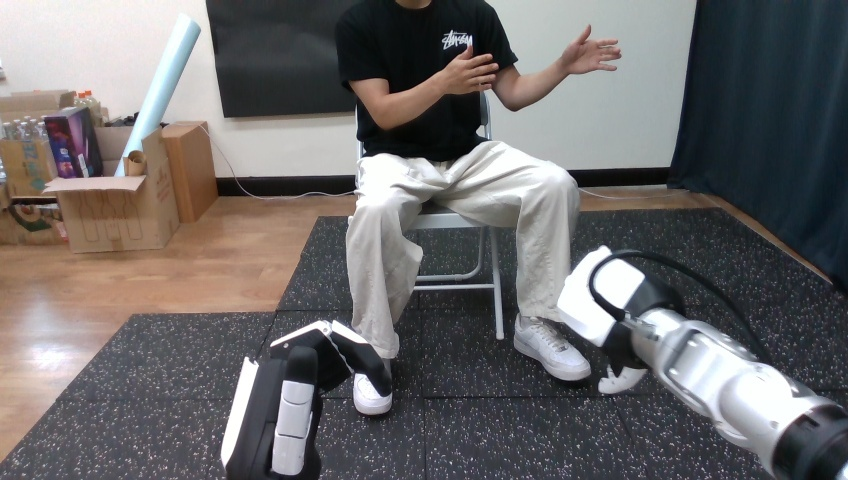left robot hand: (588, 250, 847, 479), (557, 25, 620, 77), (440, 45, 498, 94)
